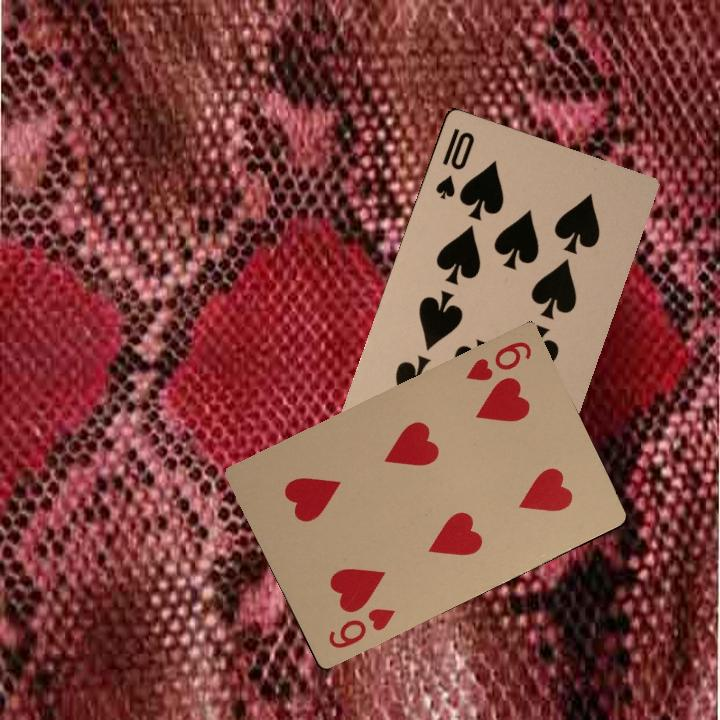10s: (431, 124, 477, 202)
6h: (461, 337, 535, 384), (324, 604, 396, 651)
